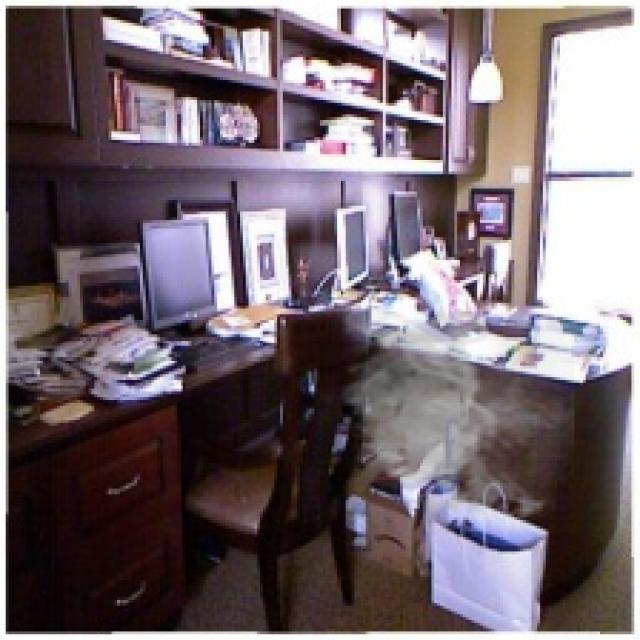Smoke: (337, 306, 574, 526)
